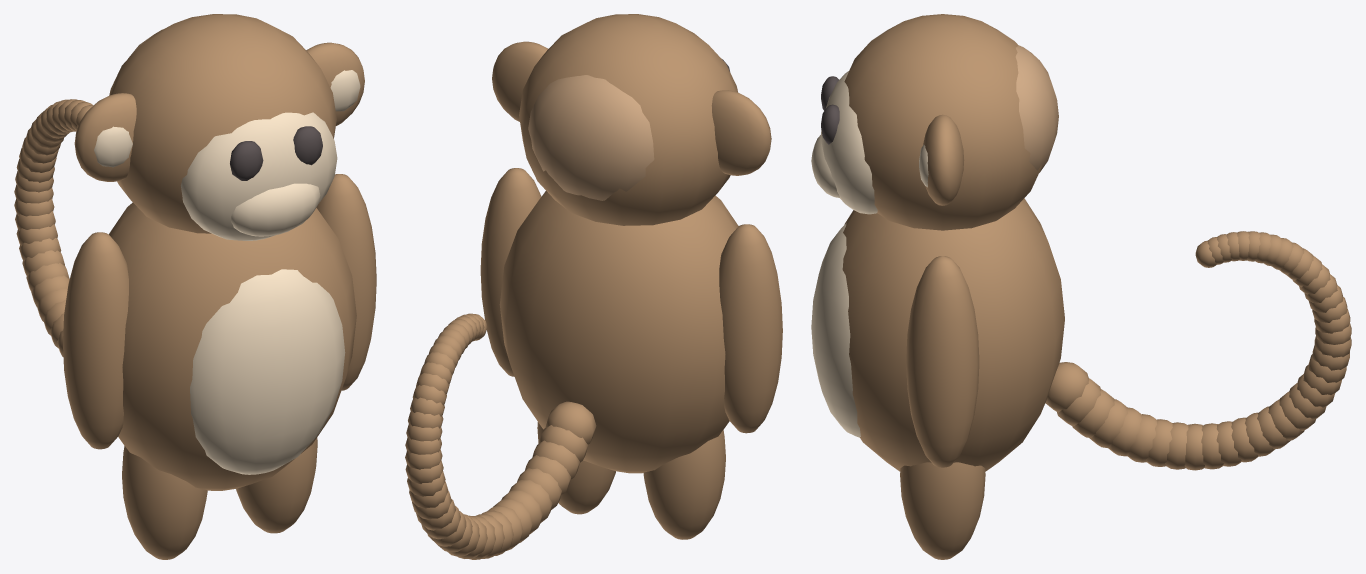
Rendered from monkey.glb.
3 views of the same model, side by side, from view 1: azimuth 30°, elevation 25°; view 2: azimuth 150°, elevation 25°; view 3: azimuth 270°, elevation 25° (orthographic). The views are drawn at different scales.
Visible parts, largest first — view 1: monkey; view 2: monkey; view 3: monkey.
Boxes of the visible parts, left/top/right/bottom form: monkey: left=14, top=14, right=376, bottom=559; monkey: left=405, top=14, right=782, bottom=559; monkey: left=811, top=14, right=1351, bottom=559.
Bounding box in the file's own units: 1.12 × 1.83 × 1.77.
